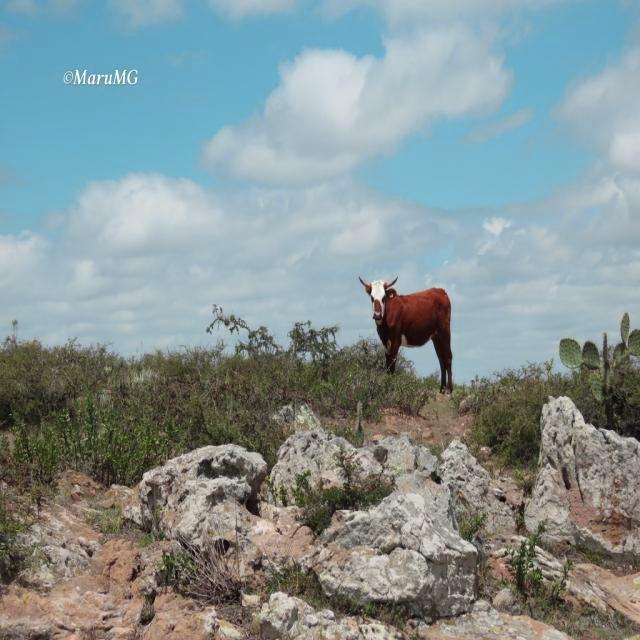cow: (359, 278, 451, 392)
